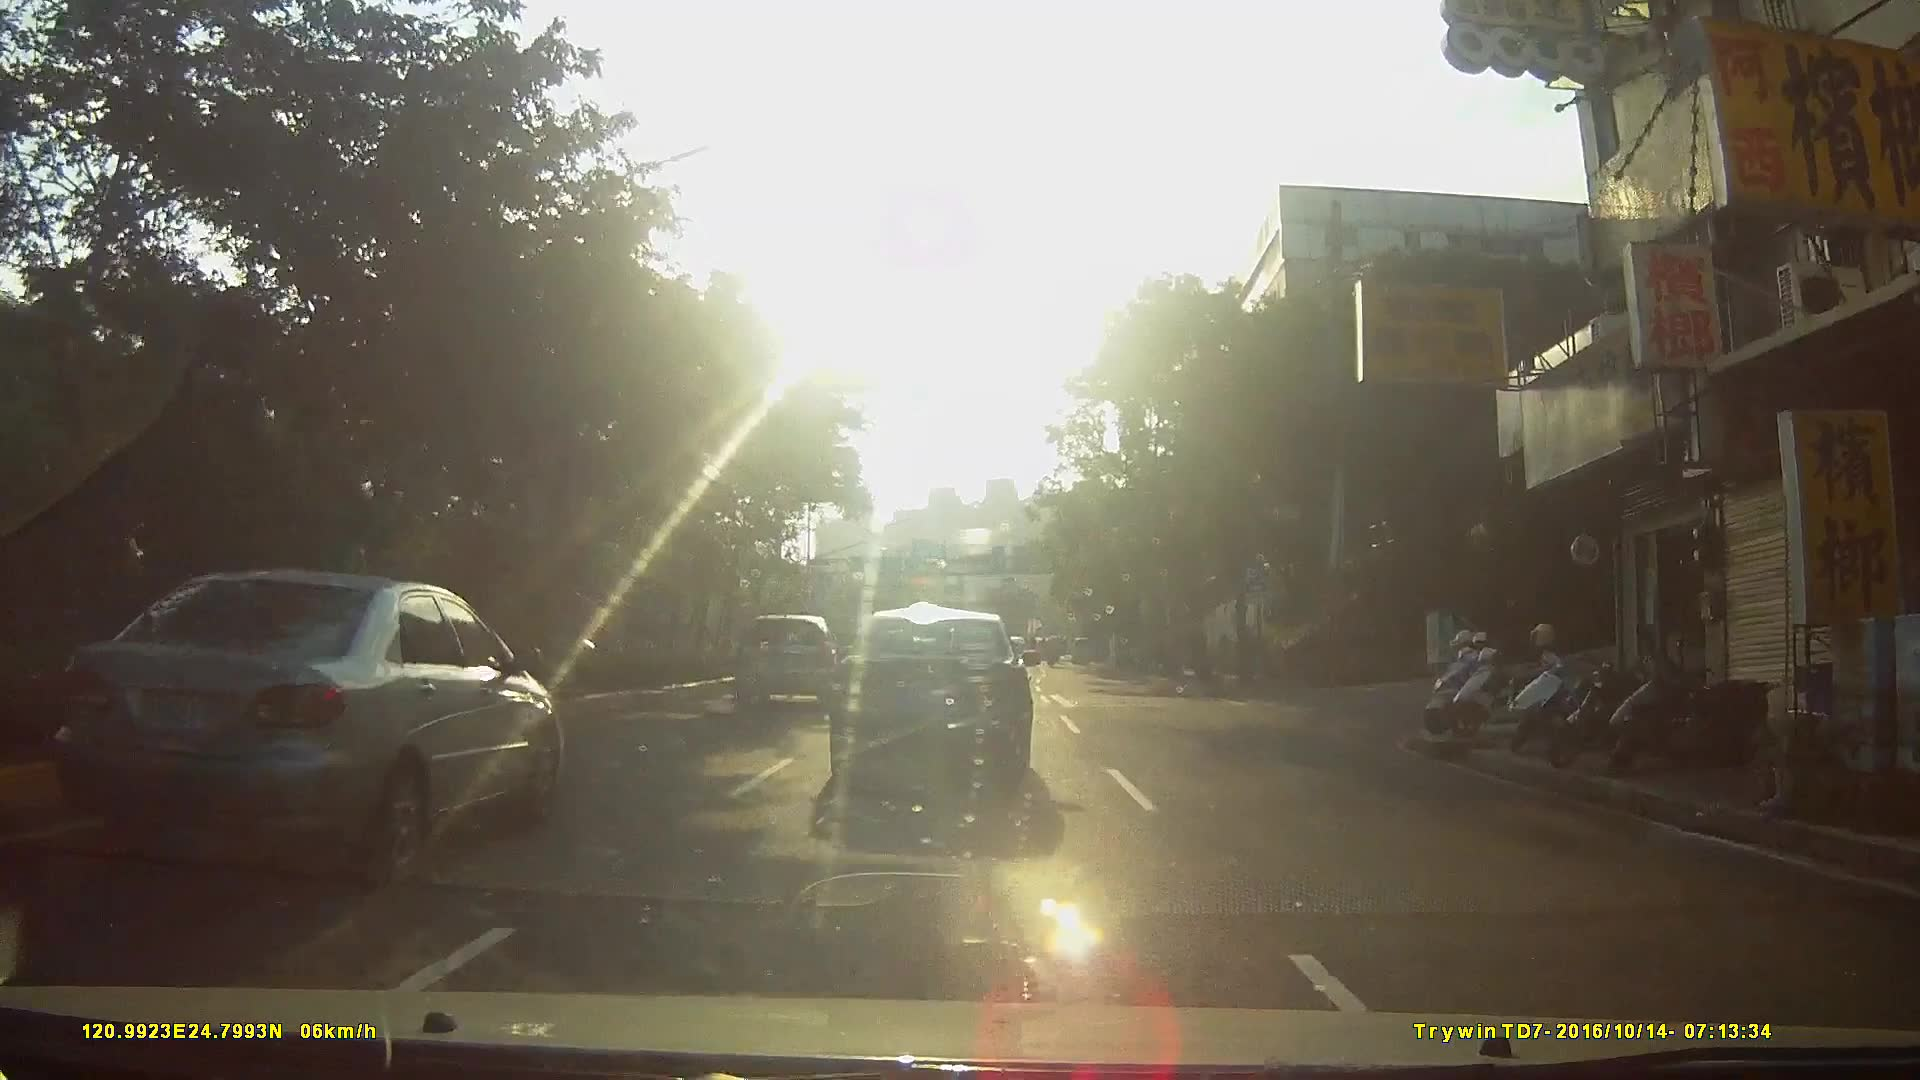vehicle: (16, 572, 568, 886), (833, 611, 1055, 800), (736, 613, 847, 705), (1069, 634, 1102, 665)
